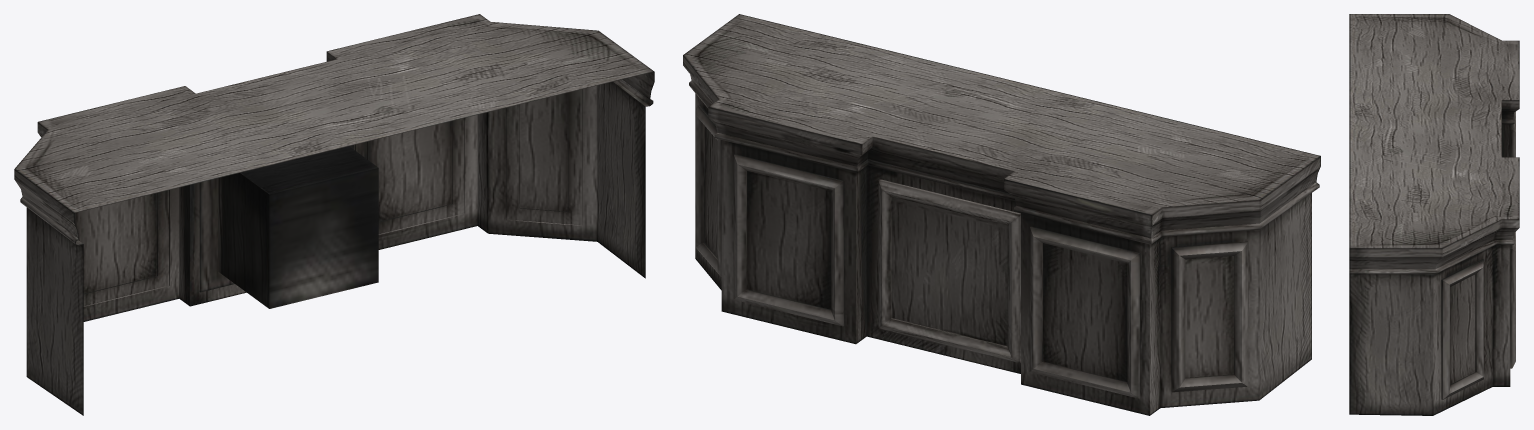
File: bar.fbx
3 views of the same model, side by side, from view 1: azimuth 30°, elevation 25°; view 2: azimuth 150°, elevation 25°; view 3: azimuth 270°, elevation 25° (orthographic). The views are drawn at different scales.
Parts seen in each view (by area): view 1: polySurface1844, pTorus1; view 2: polySurface1844, pTorus1; view 3: polySurface1844.
Part boxes in pixels (x1,y1,x2,y2): polySurface1844: (14, 14, 654, 415); pTorus1: (199, 178, 234, 292); polySurface1844: (683, 14, 1320, 415); pTorus1: (878, 179, 1020, 363); polySurface1844: (1349, 14, 1519, 415).
Bounding box in the file's own units: 270 × 91.56 × 82.76.
